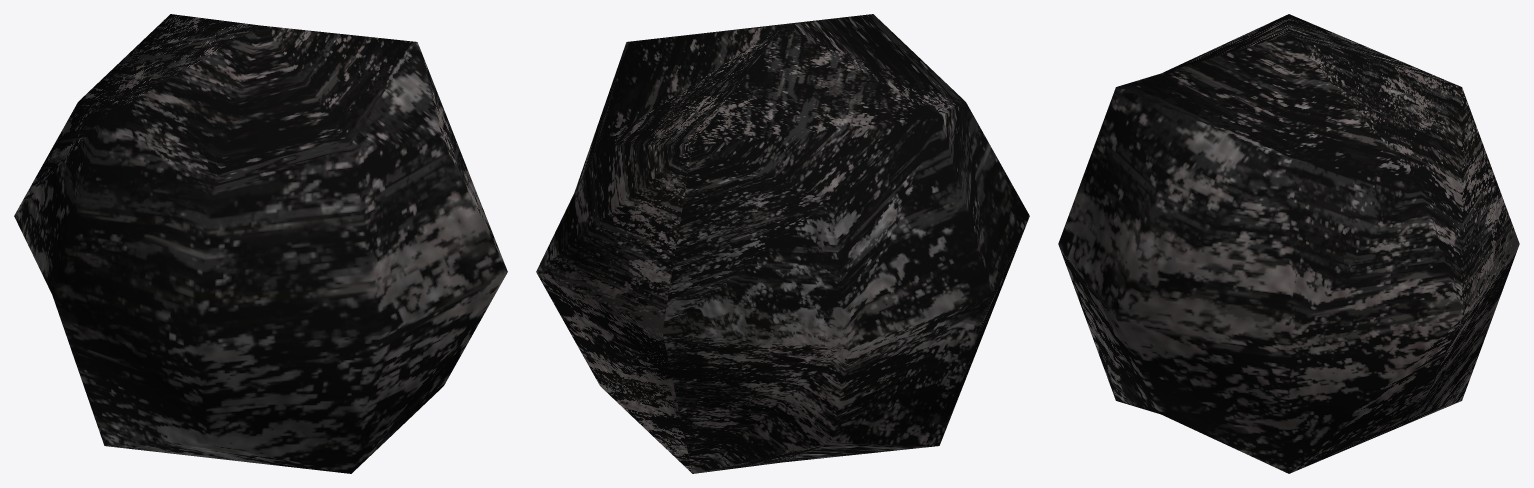
File: rockMedium.fbx
3 views of the same model, side by side, from view 1: azimuth 30°, elevation 25°; view 2: azimuth 150°, elevation 25°; view 3: azimuth 270°, elevation 25° (orthographic). The views are drawn at different scales.
Parts seen in each view (by area): view 1: rockMedium; view 2: rockMedium; view 3: rockMedium.
Boxes of the visible parts, <box> form: rockMedium: <box>14,14,507,473</box>; rockMedium: <box>536,14,1029,473</box>; rockMedium: <box>1058,14,1519,473</box>.
Bounding box in the file's own units: 2.5 × 2.5 × 2.5.
